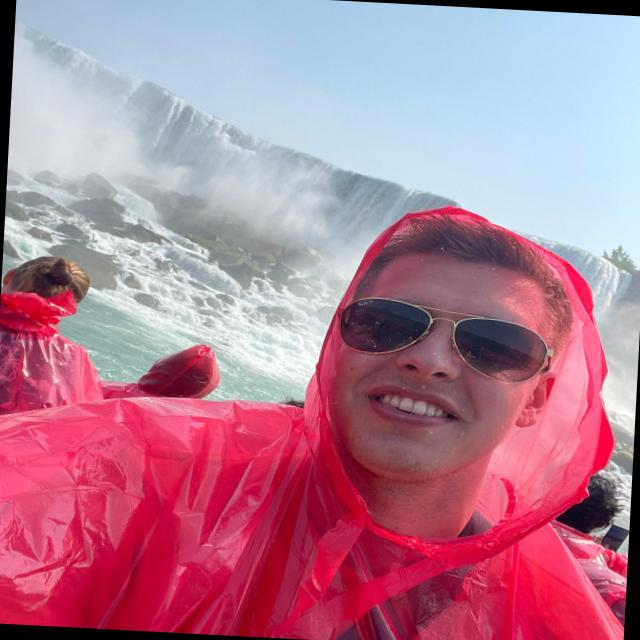JeremiasDiaz: (316, 199, 585, 499)
